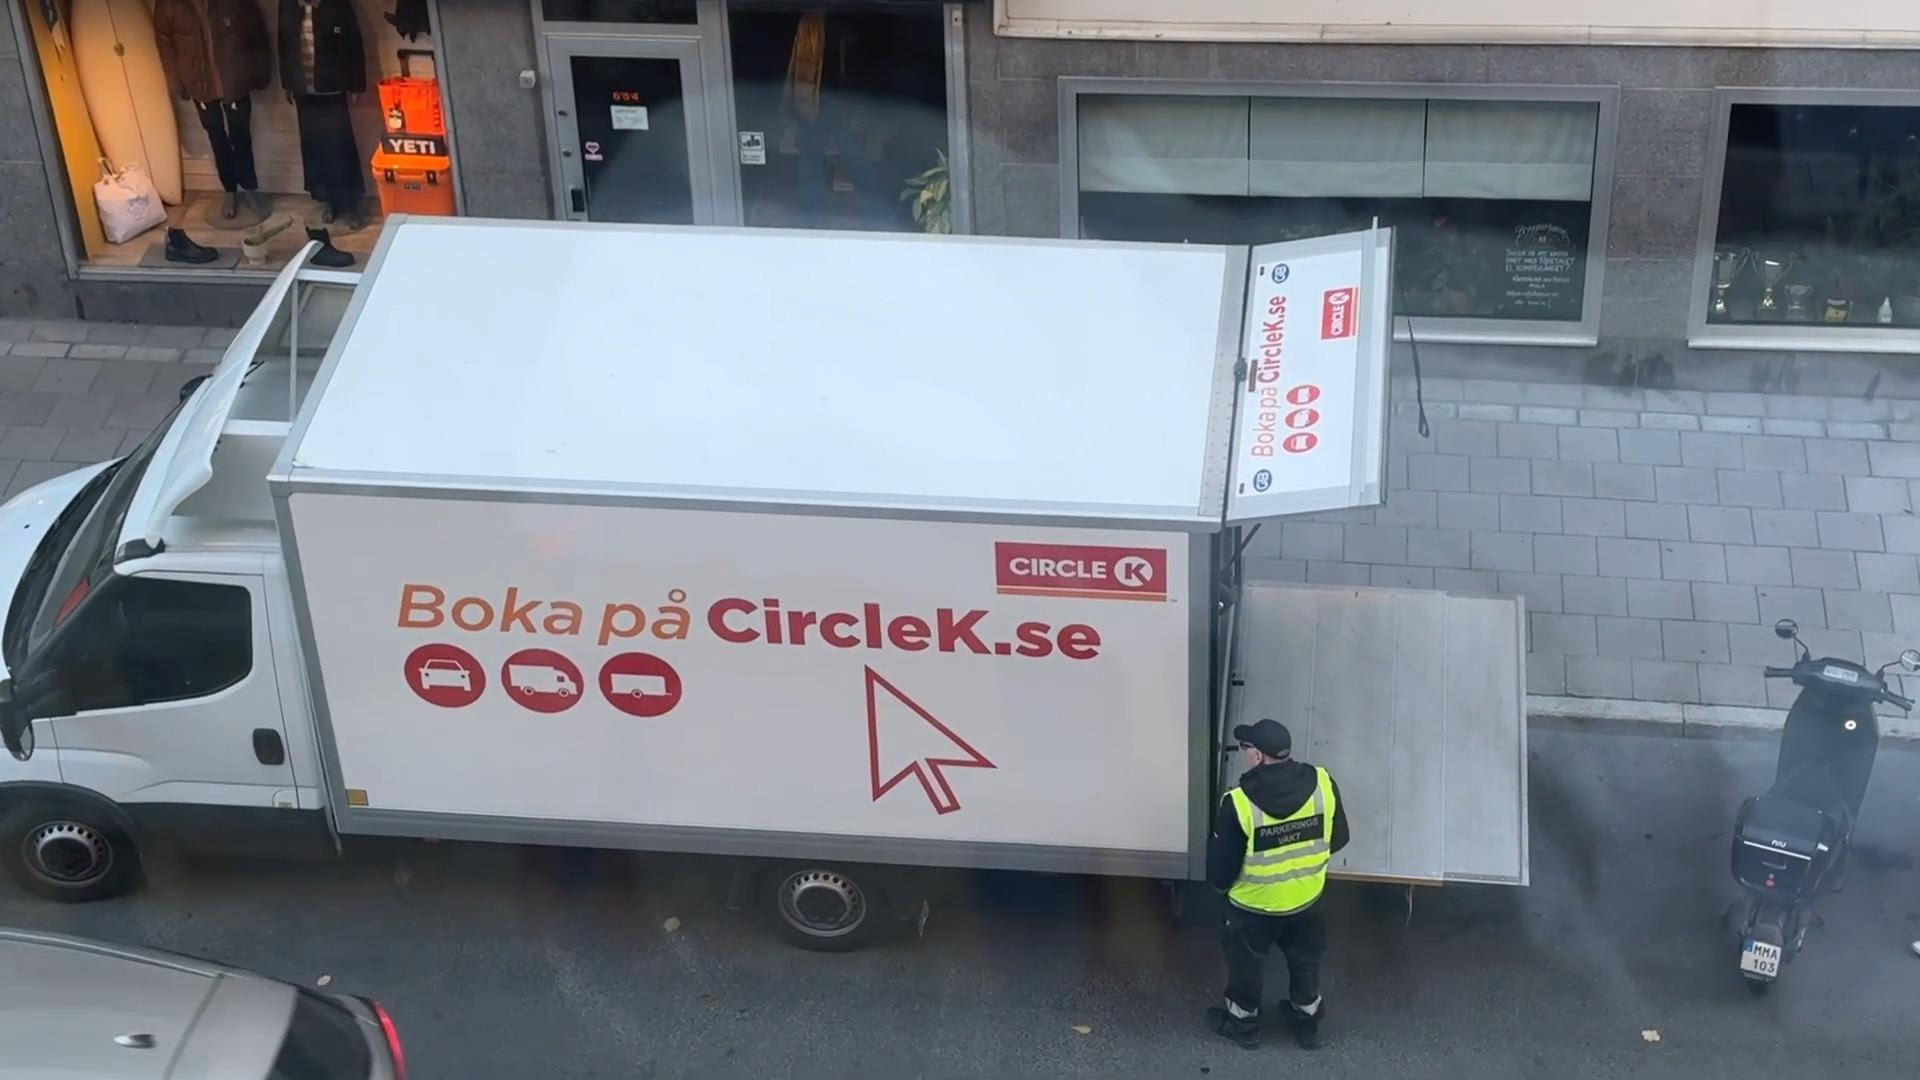parking-attendant: (1208, 719, 1348, 1048)
